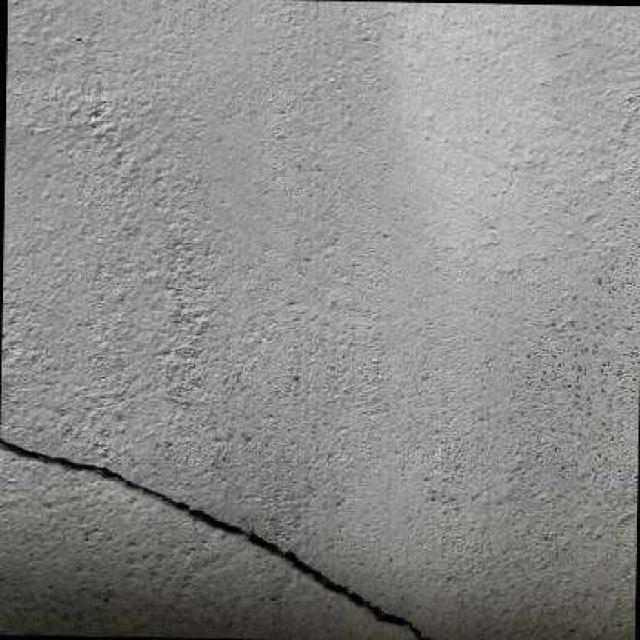D00: (0, 437, 432, 640)
